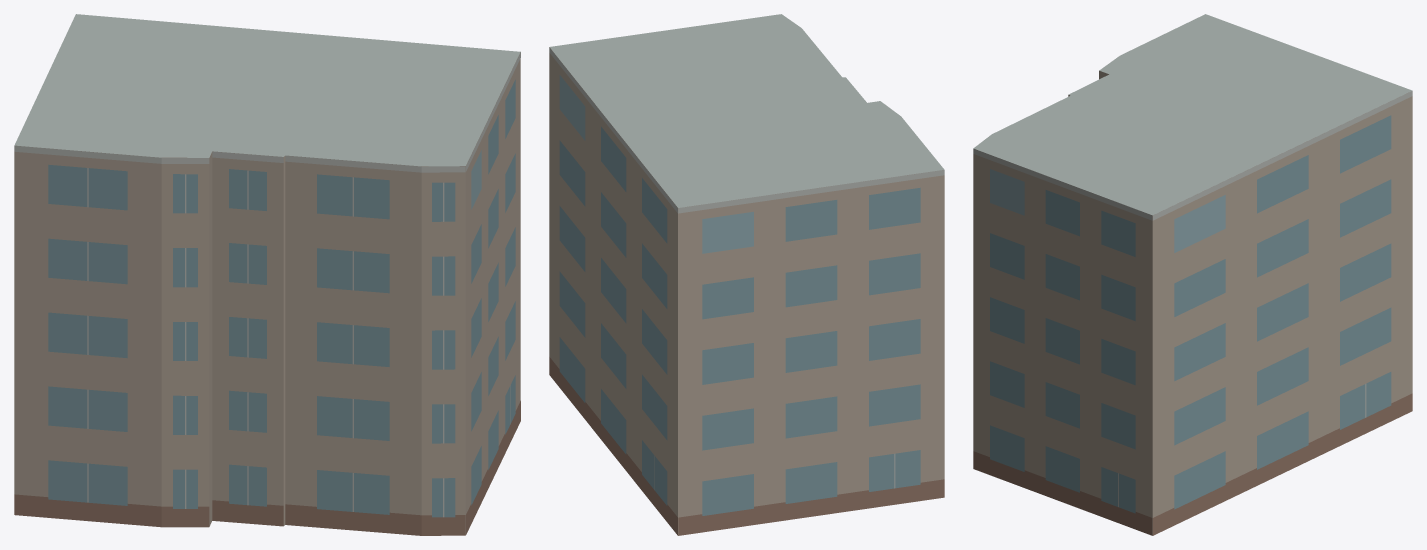
Rendered from survey-upis-32980809.glb.
3 renders of one model, left to right at view 1: azimuth 30°, elevation 25°; view 2: azimuth 150°, elevation 25°; view 3: azimuth 270°, elevation 25°, orthographic. The views are drawn at different scales.
Visible parts, largest first — view 1: survey-upis-32980809.tmp; view 2: survey-upis-32980809.tmp; view 3: survey-upis-32980809.tmp.
Part boxes in pixels (x1=…): survey-upis-32980809.tmp: x1=14, y1=14, x2=520, y2=535; survey-upis-32980809.tmp: x1=549, y1=14, x2=944, y2=535; survey-upis-32980809.tmp: x1=973, y1=14, x2=1412, y2=535.
Size of the model in its own units: 19.62 by 14.55 by 18.09.
